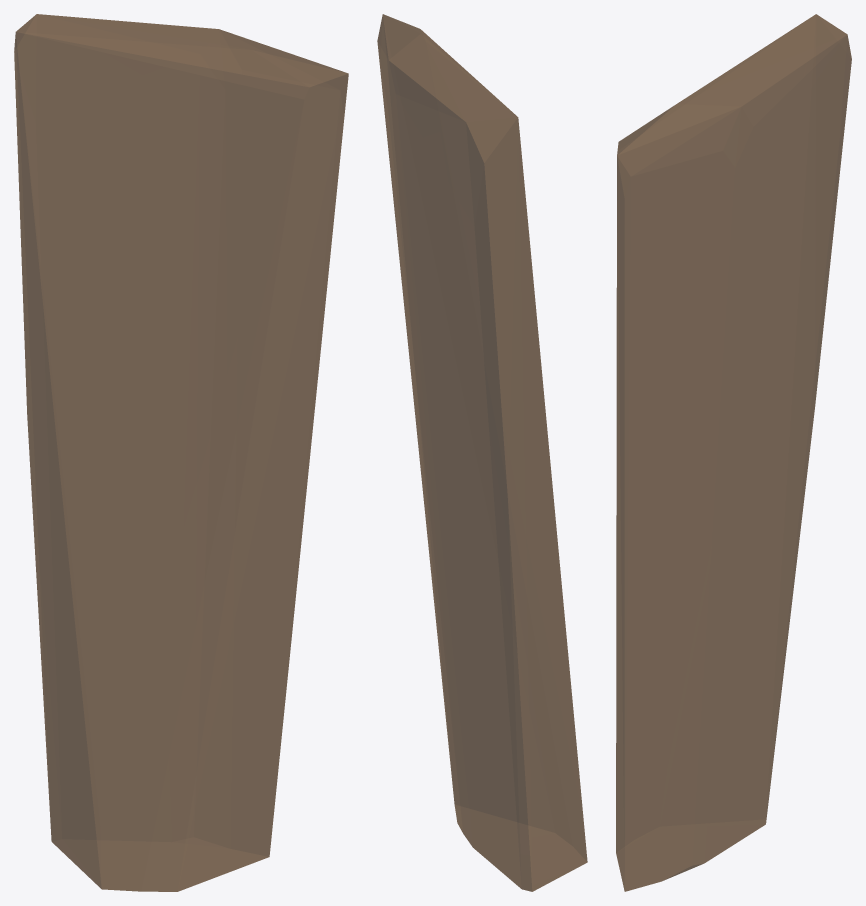
The picture shows the model from 3 angles, left to right: view 1: azimuth 30°, elevation 25°; view 2: azimuth 150°, elevation 25°; view 3: azimuth 270°, elevation 25°; orthographic projection.
Parts seen in each view (by area): view 1: Shape_IndexedFaceSet.021_Shape_IndexedFaceSet.8300; view 2: Shape_IndexedFaceSet.021_Shape_IndexedFaceSet.8300; view 3: Shape_IndexedFaceSet.021_Shape_IndexedFaceSet.8300.
Boxes of the visible parts, x1,y1,x2,y2 form: Shape_IndexedFaceSet.021_Shape_IndexedFaceSet.8300: (14,14,348,891); Shape_IndexedFaceSet.021_Shape_IndexedFaceSet.8300: (377,14,587,891); Shape_IndexedFaceSet.021_Shape_IndexedFaceSet.8300: (616,14,851,891).
Bounding box in the file's own units: 0.2796 × 0.9156 × 0.2422.
